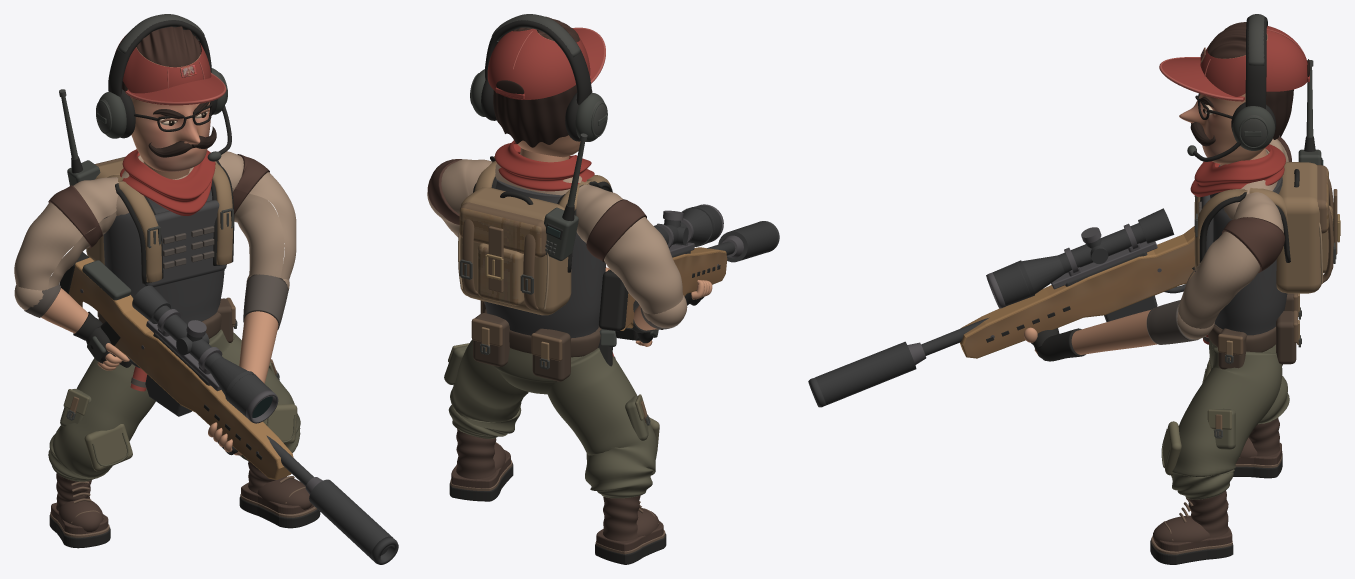
Rendered from red-cap-marksman.glb.
The picture shows the model from 3 angles, left to right: view 1: azimuth 30°, elevation 25°; view 2: azimuth 150°, elevation 25°; view 3: azimuth 270°, elevation 25°; orthographic projection. The views are drawn at different scales.
Visible parts, largest first — view 1: Shaped sleeve with radial cloth folds (×2), Beveled stock and fore-end with opening, Right trouser leg, Continuous fitted vest, Sculpted jaw, cheekbones and nose, Wrapped continuous scarf, Shaped skin forearm (×2), Chest plate pocket, Sand shoulder webbing (×2), Suppressor, Cloth knee insert (×2), Upper-arm brown canvas band (×2) (+27 smaller); view 2: Right trouser leg, Shaped sleeve with radial cloth folds (×2), Continuous fitted vest, Left trouser leg, Fitted red cap crown, Soft main compartment, Tapered nape hair mass, Pouch body (×4), Shaped ankle shaft (×2), Upper-arm brown canvas band (×2), Wrapped continuous scarf, Curved pack lid (+22 smaller); view 3: Beveled stock and fore-end with opening, Left trouser leg, Shaped sleeve with radial cloth folds, Soft main compartment, Fitted red cap crown, Continuous fitted vest, Suppressor, Wrapped continuous scarf, Shaped skin forearm, Sculpted jaw, cheekbones and nose, Shaped ankle shaft (×2), Upper-arm brown canvas band (+24 smaller).
Boxes of the visible parts, left/top/right/bottom form: Shaped sleeve with radial cloth folds (×2): left=14, top=151, right=296, bottom=290; Beveled stock and fore-end with opening: left=68, top=257, right=293, bottom=479; Right trouser leg: left=48, top=358, right=155, bottom=481; Continuous fitted vest: left=103, top=189, right=224, bottom=324; Sculpted jaw, cheekbones and nose: left=127, top=47, right=210, bottom=171; Wrapped continuous scarf: left=120, top=149, right=215, bottom=215; Shaped skin forearm (×2): left=41, top=288, right=278, bottom=455; Chest plate pocket: left=144, top=200, right=226, bottom=287; Sand shoulder webbing (×2): left=107, top=161, right=232, bottom=282; Suppressor: left=309, top=479, right=392, bottom=559; Cloth knee insert (×2): left=84, top=404, right=297, bottom=471; Upper-arm brown canvas band (×2): left=48, top=154, right=269, bottom=248; Right trouser leg: left=547, top=348, right=657, bottom=498; Shaped sleeve with radial cloth folds (×2): left=427, top=159, right=683, bottom=314; Continuous fitted vest: left=484, top=179, right=605, bottom=338; Left trouser leg: left=448, top=339, right=528, bottom=438; Fitted red cap crown: left=487, top=28, right=590, bottom=99; Soft main compartment: left=460, top=187, right=571, bottom=315; Tapered nape hair mass: left=493, top=85, right=576, bottom=147; Pouch body (×4): left=444, top=313, right=648, bottom=440; Shaped ankle shaft (×2): left=456, top=428, right=640, bottom=541; Upper-arm brown canvas band (×2): left=427, top=159, right=646, bottom=262; Wrapped continuous scarf: left=494, top=140, right=594, bottom=191; Curved pack lid: left=459, top=202, right=546, bottom=257; Beveled stock and fore-end with opening: left=960, top=226, right=1194, bottom=358; Left trouser leg: left=1171, top=347, right=1282, bottom=499; Shaped sleeve with radial cloth folds: left=1178, top=192, right=1283, bottom=328; Soft main compartment: left=1276, top=162, right=1322, bottom=293; Fitted red cap crown: left=1200, top=26, right=1307, bottom=96; Continuous fitted vest: left=1210, top=165, right=1287, bottom=335; Suppressor: left=815, top=341, right=916, bottom=405; Wrapped continuous scarf: left=1190, top=144, right=1285, bottom=196; Shaped skin forearm: left=1034, top=310, right=1156, bottom=355; Sculpted jaw, cheekbones and nose: left=1179, top=34, right=1267, bottom=164; Shaped ankle shaft (×2): left=1188, top=417, right=1280, bottom=537; Upper-arm brown canvas band: left=1221, top=217, right=1285, bottom=272.
Bounding box in the file's own units: 3.24 × 5.94 × 5.84.
40 materials, 4 textured.
